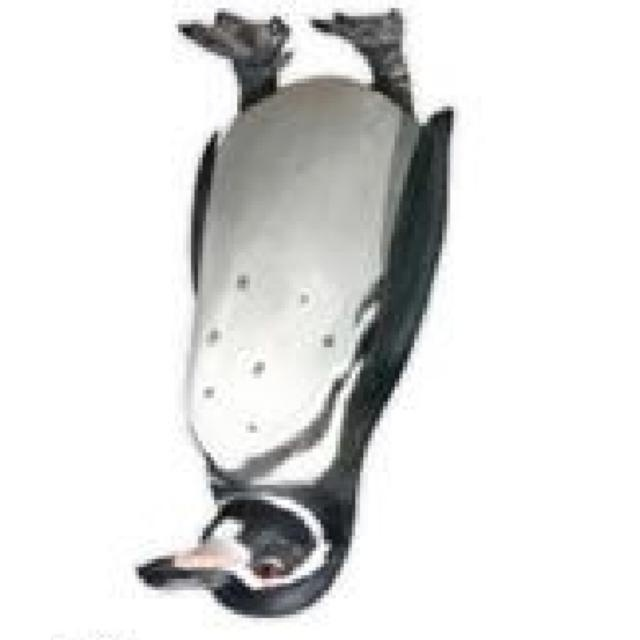penguin: (137, 7, 456, 617)
